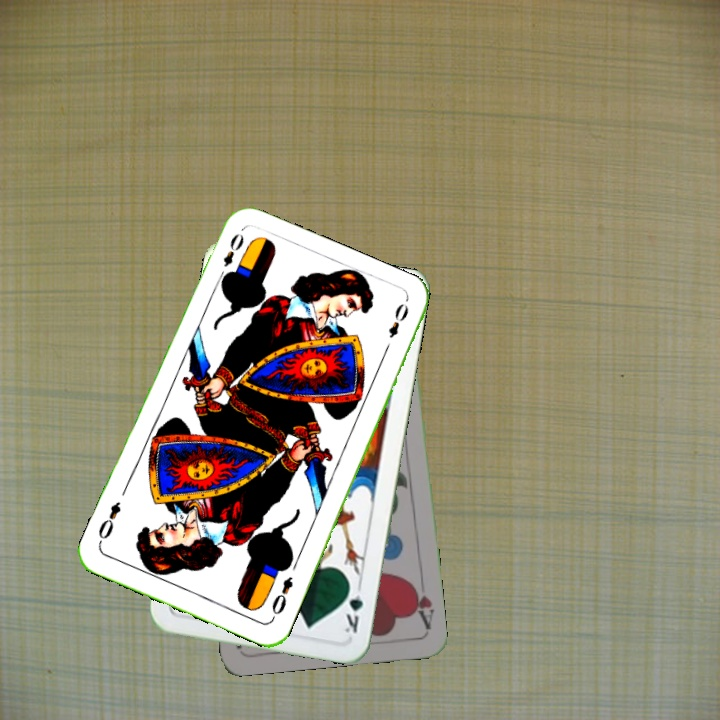EO: (214, 229, 247, 284), (267, 572, 296, 622)
GK: (340, 578, 366, 636)
HA: (407, 577, 437, 632)
